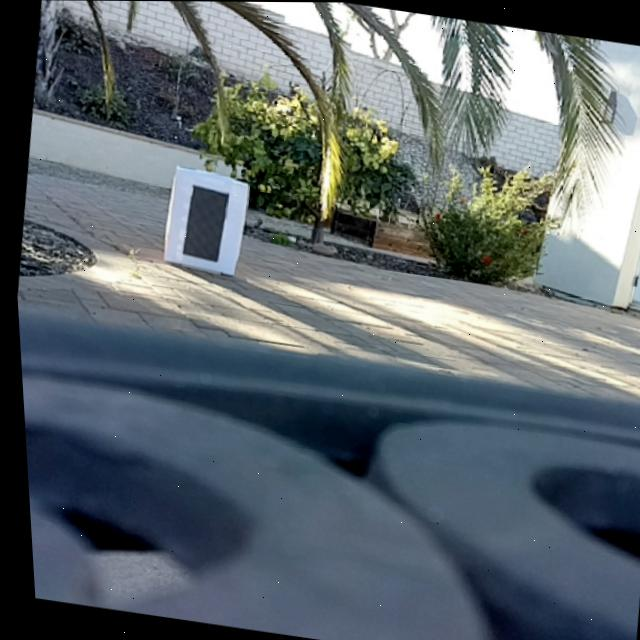led: (177, 185, 229, 262)
